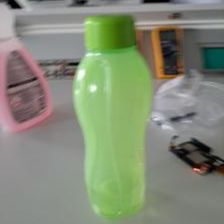bottle: (71, 10, 154, 220)
